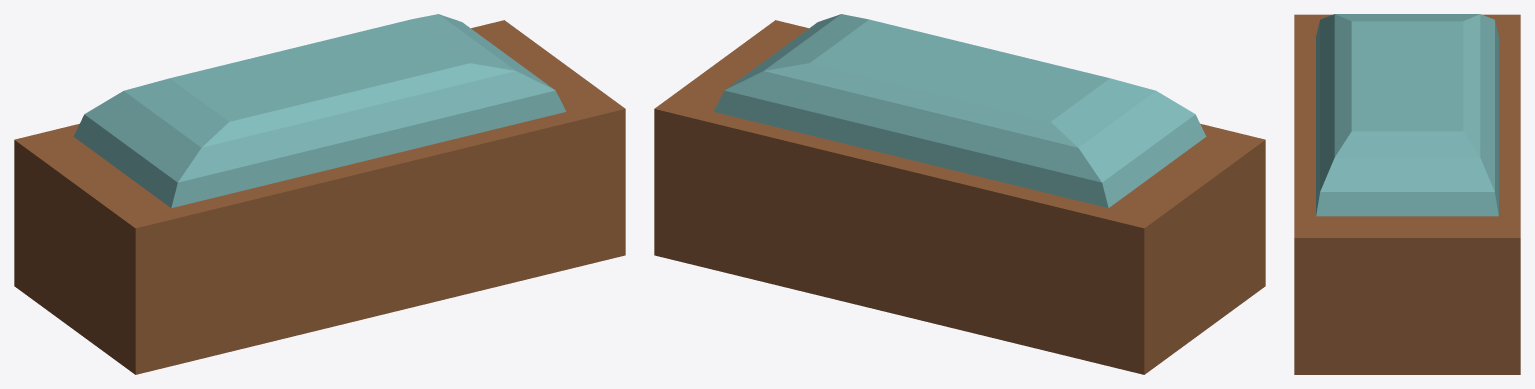
The model's file is icebox.fbx.
3 renders of one model, left to right at view 1: azimuth 30°, elevation 25°; view 2: azimuth 150°, elevation 25°; view 3: azimuth 270°, elevation 25°, orthographic. The views are drawn at different scales.
Visible parts, largest first — view 1: Icebox; view 2: Icebox; view 3: Icebox.
Boxes of the visible parts, left/top/right/bottom form: Icebox: left=14, top=14, right=625, bottom=374; Icebox: left=654, top=14, right=1265, bottom=374; Icebox: left=1294, top=14, right=1520, bottom=374.
Bounding box in the file's own units: 350 × 137 × 150.
